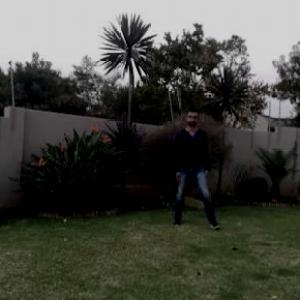follow: (171, 97, 209, 227)
